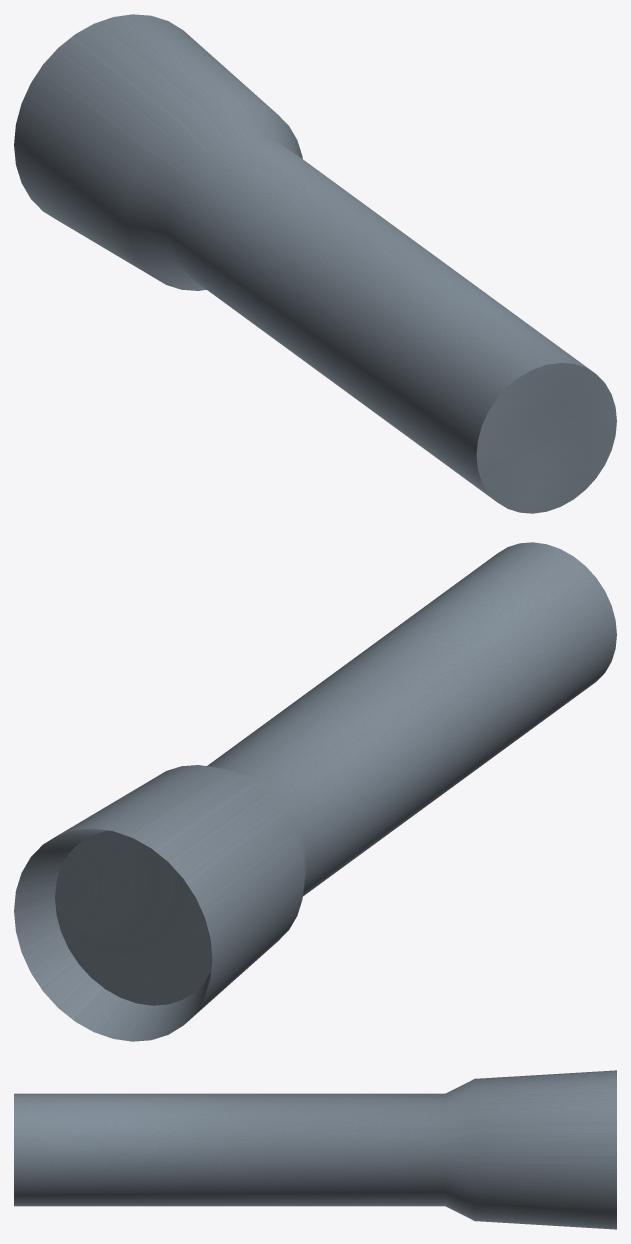
Rendered from Senter.fbx.
The picture shows the model from 3 angles, top to bottom: view 1: azimuth 30°, elevation 25°; view 2: azimuth 150°, elevation 25°; view 3: azimuth 270°, elevation 25°; orthographic projection. The views are drawn at different scales.
Visible parts, largest first — view 1: Flashlight; view 2: Flashlight; view 3: Flashlight.
Boxes of the visible parts, x1,y1,x2,y2 form: Flashlight: (14,14,616,513); Flashlight: (14,542,616,1041); Flashlight: (14,1070,616,1229).
Bounding box in the file's own units: 0.151 × 0.0399 × 0.0399.
